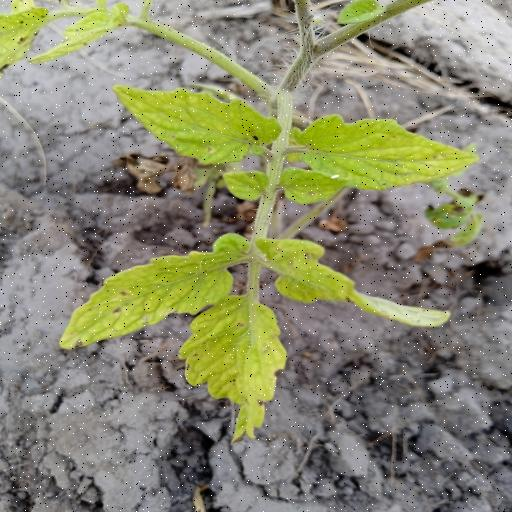Tomato_Brown_Spots: (52, 227, 254, 351), (184, 300, 300, 442), (300, 112, 490, 194)
